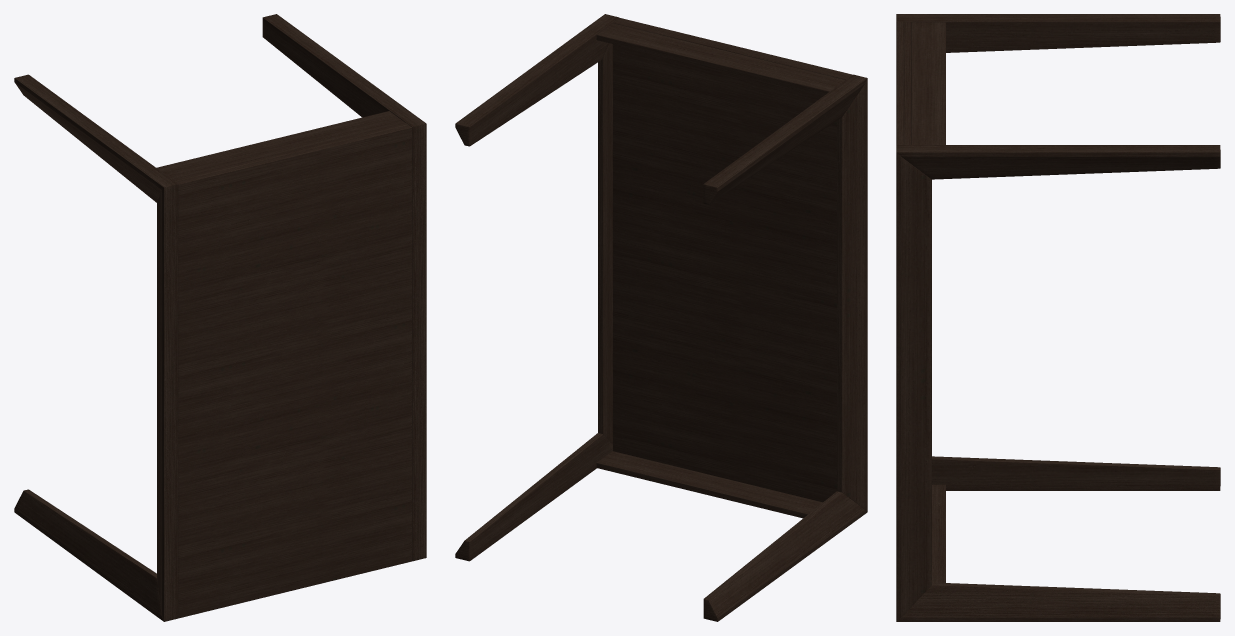
File: O&G ABACO Table N030424.obj
3 renders of one model, left to right at view 1: azimuth 30°, elevation 25°; view 2: azimuth 150°, elevation 25°; view 3: azimuth 270°, elevation 25°, orthographic. The views are drawn at different scales.
Visible parts, largest first — view 1: ChamferBox001, Line005, Line003, Line006, Line008, Line007, Rectangle003, ChamferBox002; view 2: ChamferBox002, Line005, Line006, Line003, Line008, Rectangle003, Line007, Rectangle002, Line001, ChamferBox001; view 3: Line003, Line001, Line007, Line008, Line006, Rectangle003, Rectangle002, ChamferBox002, ChamferBox001.
Boxes of the visible parts, x1=… form: ChamferBox001: x1=176, y1=125, x2=411, y2=618; Line005: x1=157, y1=184, x2=178, y2=621; Line003: x1=412, y1=123, x2=426, y2=561; Line006: x1=14, y1=489, x2=163, y2=621; Line008: x1=262, y1=14, x2=425, y2=126; Line007: x1=14, y1=74, x2=177, y2=202; Rectangle003: x1=156, y1=111, x2=404, y2=179; ChamferBox002: x1=172, y1=122, x2=408, y2=181; ChamferBox002: x1=613, y1=20, x2=848, y2=502; Line005: x1=837, y1=78, x2=867, y2=511; Line006: x1=703, y1=491, x2=867, y2=621; Line003: x1=598, y1=43, x2=612, y2=444; Line008: x1=455, y1=14, x2=619, y2=146; Rectangle003: x1=596, y1=23, x2=844, y2=95; Line007: x1=703, y1=74, x2=867, y2=204; Rectangle002: x1=596, y1=451, x2=822, y2=518; Line001: x1=455, y1=433, x2=612, y2=561; ChamferBox001: x1=616, y1=18, x2=852, y2=76; Line003: x1=896, y1=145, x2=931, y2=621; Line001: x1=897, y1=582, x2=1220, y2=621; Line007: x1=896, y1=14, x2=1220, y2=52; Line008: x1=896, y1=145, x2=1220, y2=179; Line006: x1=932, y1=456, x2=1220, y2=490; Rectangle003: x1=911, y1=22, x2=945, y2=144; Rectangle002: x1=931, y1=484, x2=945, y2=582; ChamferBox002: x1=904, y1=21, x2=911, y2=144; ChamferBox001: x1=896, y1=21, x2=903, y2=144.
Size of the model in its own units: 75.75 by 120 by 74.94.
1 material, 1 textured.
